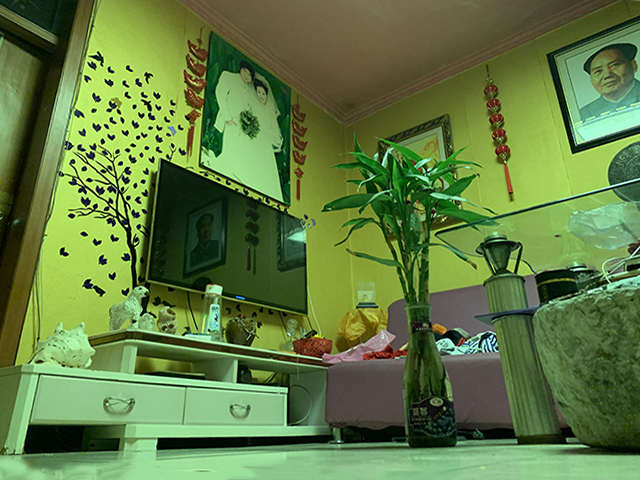cabinet: (1, 327, 330, 454)
sofa: (328, 280, 532, 442)
